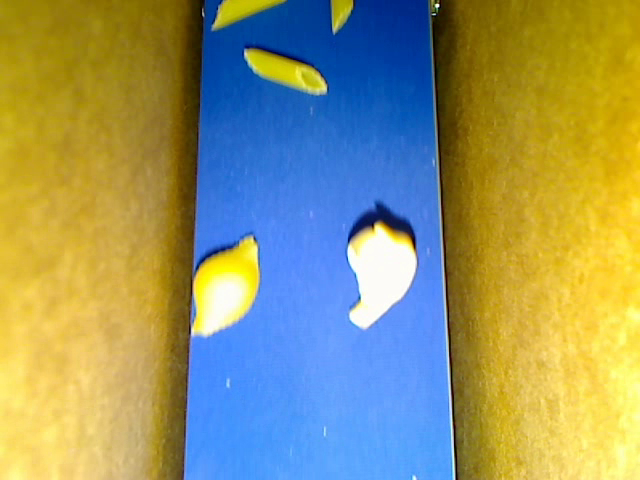penne: (244, 48, 328, 95), (210, 1, 286, 30), (330, 1, 353, 35)
shell: (190, 234, 259, 337)
tortellini: (347, 220, 418, 330)
